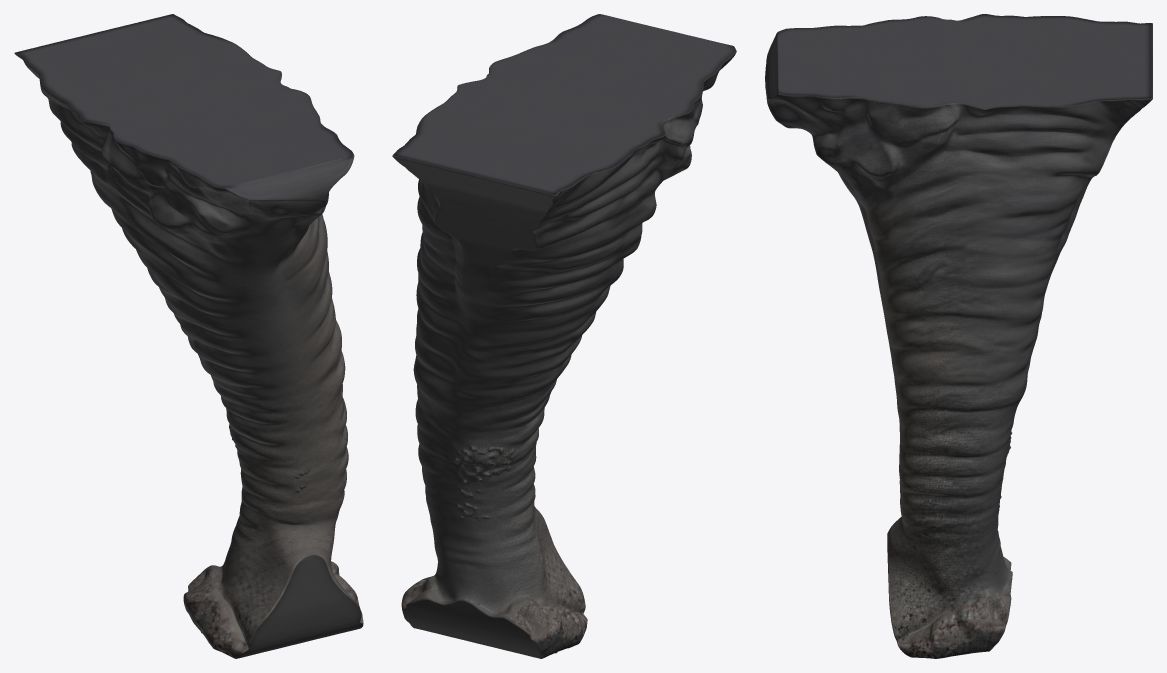
Rendered from tornado-3d-model-2bce0c11.glb.
3 renders of one model, left to right at view 1: azimuth 30°, elevation 25°; view 2: azimuth 150°, elevation 25°; view 3: azimuth 270°, elevation 25°, orthographic. The views are drawn at different scales.
Parts seen in each view (by area): view 1: tripo_node_e5ab5e90-0c6f-44b3-8850-376afe80c5a6; view 2: tripo_node_e5ab5e90-0c6f-44b3-8850-376afe80c5a6; view 3: tripo_node_e5ab5e90-0c6f-44b3-8850-376afe80c5a6.
Part boxes in pixels (x1,y1,x2,y2): tripo_node_e5ab5e90-0c6f-44b3-8850-376afe80c5a6: [14, 14, 363, 658]; tripo_node_e5ab5e90-0c6f-44b3-8850-376afe80c5a6: [392, 14, 736, 658]; tripo_node_e5ab5e90-0c6f-44b3-8850-376afe80c5a6: [765, 14, 1152, 658].
Bounding box in the file's own units: 0.4898 × 1 × 0.6639.
Materials: 1 (1 with a texture image).
